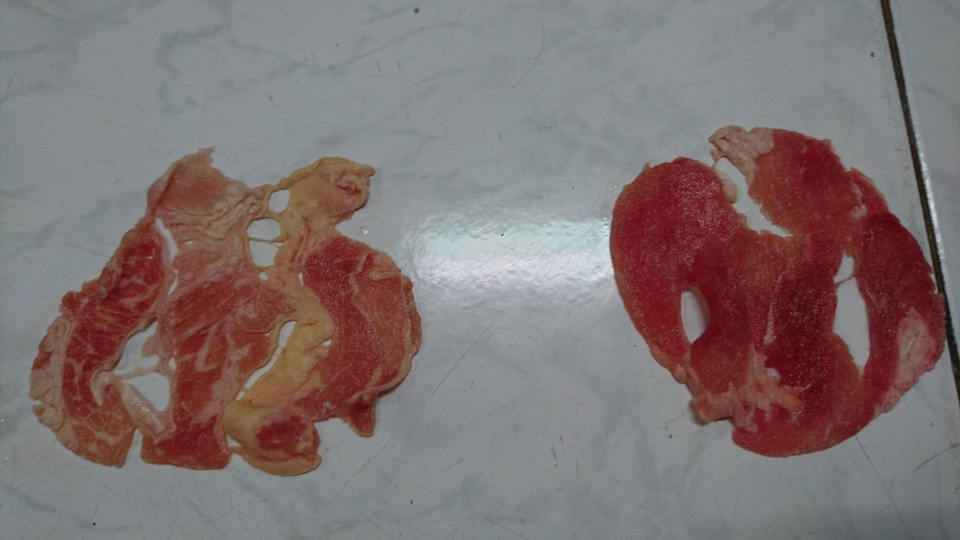restructured meat: (567, 94, 956, 465), (33, 147, 415, 479)
